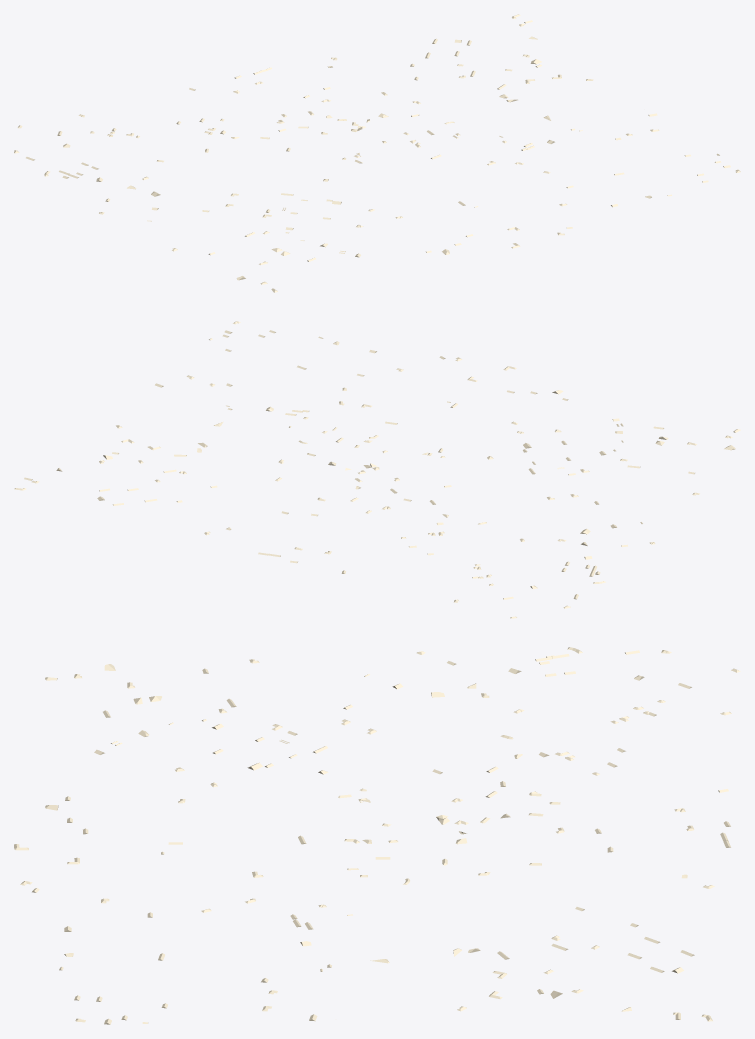
File: FaitageZinc_6.obj
3 views of the same model, one above another, from view 1: azimuth 30°, elevation 25°; view 2: azimuth 150°, elevation 25°; view 3: azimuth 270°, elevation 25° (orthographic). The views are drawn at different scales.
Visible parts, largest first — view 1: FaitageZinc_6; view 2: FaitageZinc_6; view 3: FaitageZinc_6.
Part boxes in pixels (x1,y1,x2,y2): FaitageZinc_6: (14, 14, 740, 292); FaitageZinc_6: (14, 321, 740, 618); FaitageZinc_6: (14, 647, 740, 1024).
Size of the model in its own units: 2469 by 81.81 by 2019.
